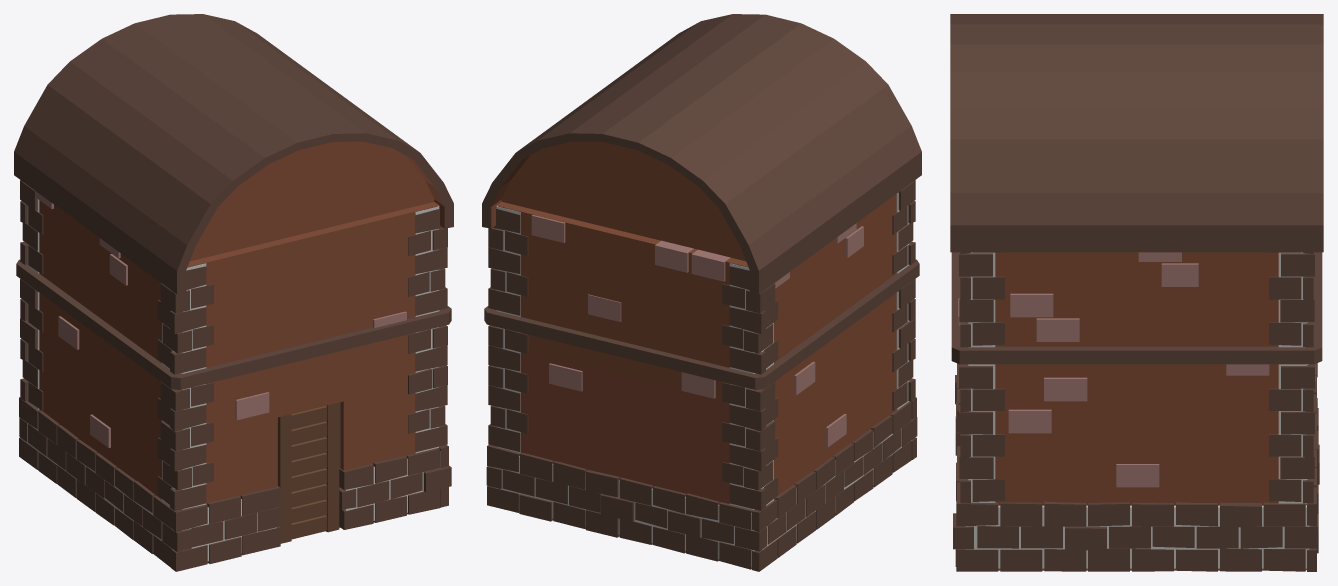
Rendered from 2Story RoundRoof.glb.
3 renders of one model, left to right at view 1: azimuth 30°, elevation 25°; view 2: azimuth 150°, elevation 25°; view 3: azimuth 270°, elevation 25°, orthographic. The views are drawn at different scales.
Parts seen in each view (by area): view 1: 2Story_RoundRoof; view 2: 2Story_RoundRoof; view 3: 2Story_RoundRoof.
Boxes of the visible parts, x1,y1,x2,y2 form: 2Story_RoundRoof: (14, 14, 453, 571); 2Story_RoundRoof: (482, 14, 921, 571); 2Story_RoundRoof: (950, 14, 1323, 571).
Bounding box in the file's own units: 5.07 × 6.96 × 5.1.
1 material, 1 textured.
